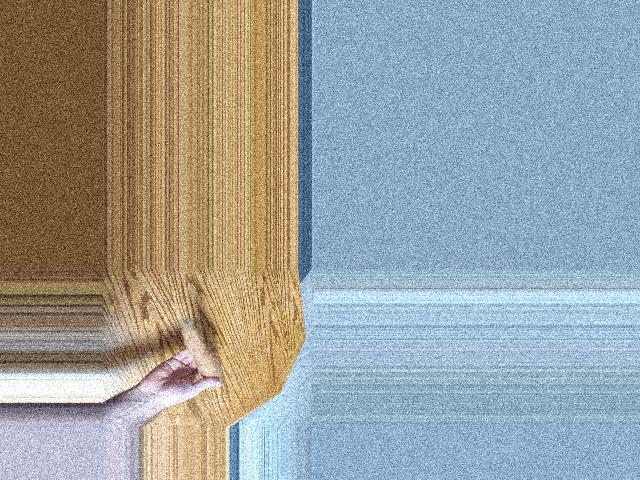sweet_potato: (174, 316, 223, 390)
